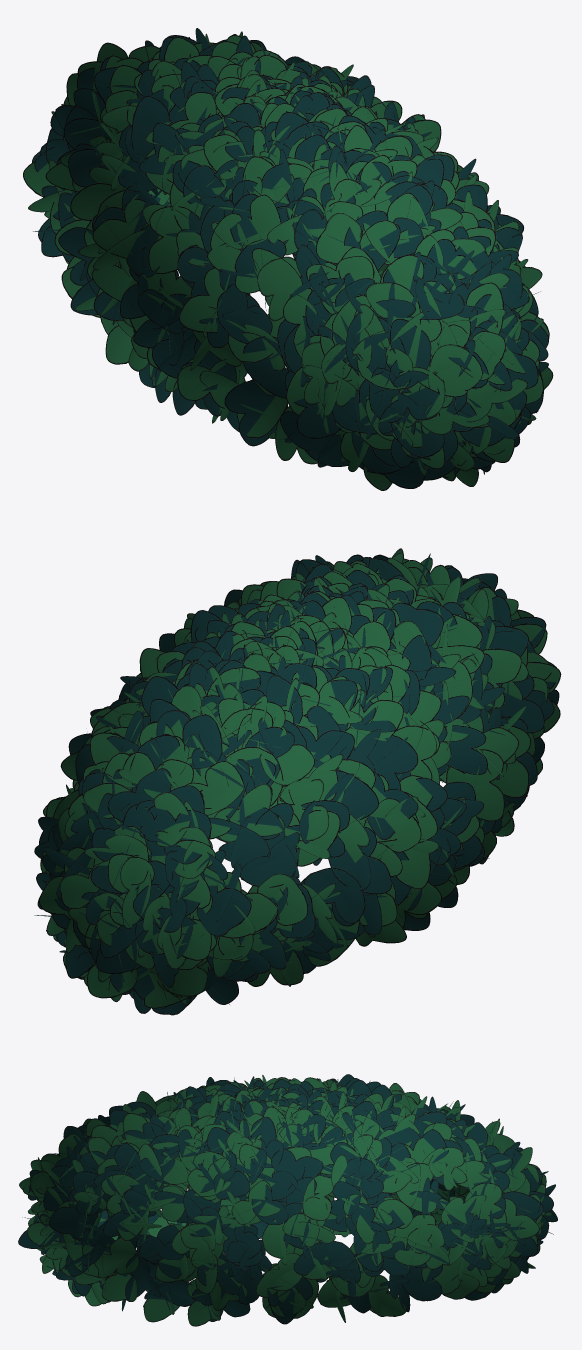
Rendered from Stylized_Bush_1 1.fbx.
3 views of the same model, one above another, from view 1: azimuth 30°, elevation 25°; view 2: azimuth 150°, elevation 25°; view 3: azimuth 270°, elevation 25° (orthographic). The views are drawn at different scales.
Parts seen in each view (by area): view 1: Bush_0; view 2: Bush_0; view 3: Bush_0.
Part boxes in pixels (x1=…): Bush_0: x1=23, y1=28, x2=553, y2=490; Bush_0: x1=34, y1=548, x2=561, y2=1015; Bush_0: x1=18, y1=1074, x2=557, y2=1326.
Size of the model in its own units: 1.33 by 2.6 by 1.15.
